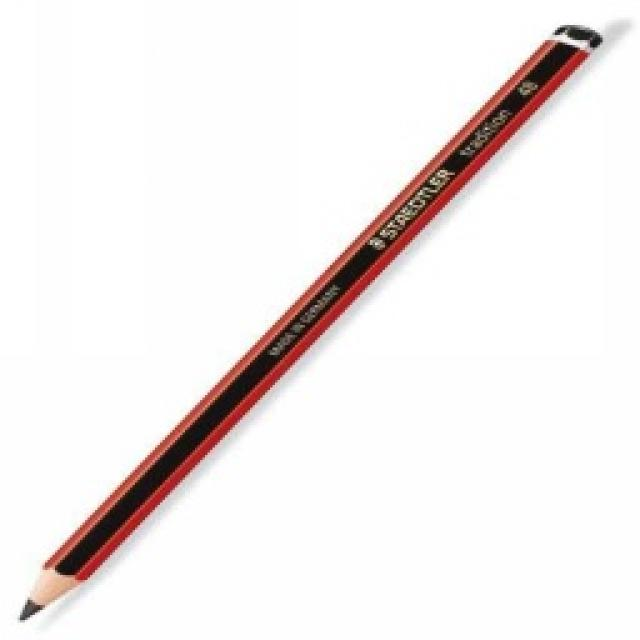pencil: (12, 17, 608, 625)
